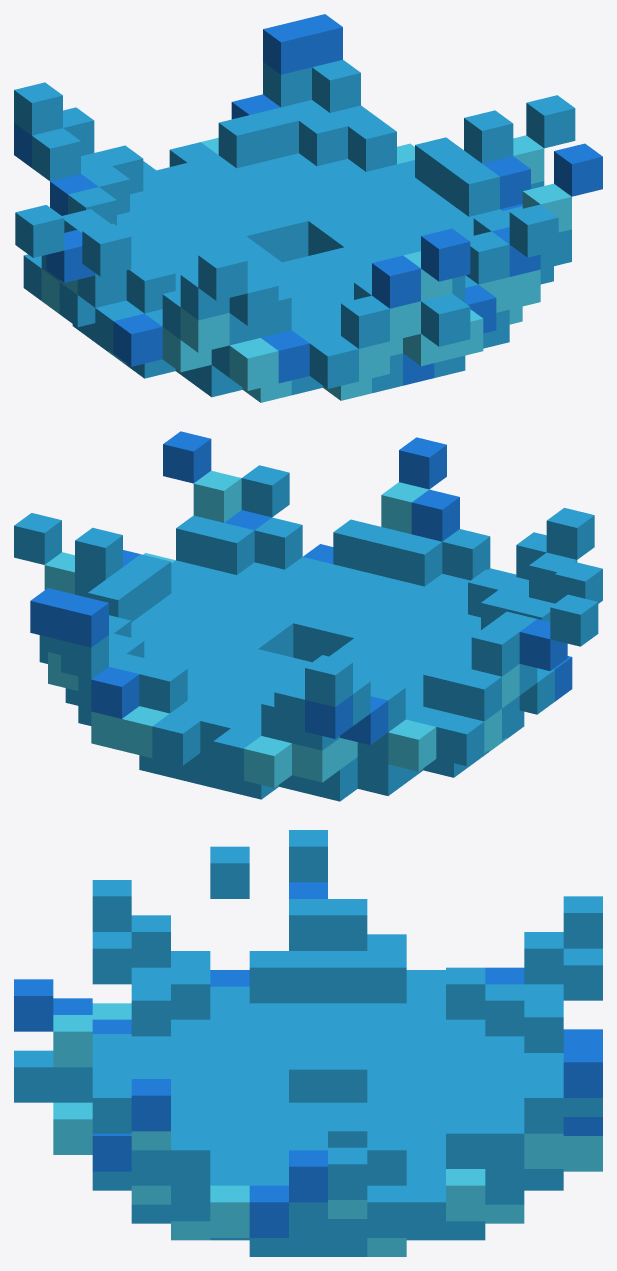
File: SUB Burner.obj
3 views of the same model, one above another, from view 1: azimuth 30°, elevation 25°; view 2: azimuth 150°, elevation 25°; view 3: azimuth 270°, elevation 25° (orthographic). The views are drawn at different scales.
Size of the model in its own units: 18 by 5 by 15.
Materials: 1 (1 with a texture image).
